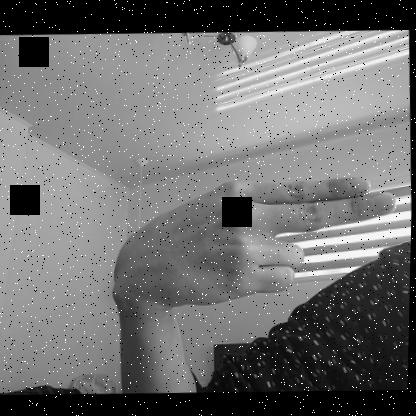H: (103, 167, 405, 309)
